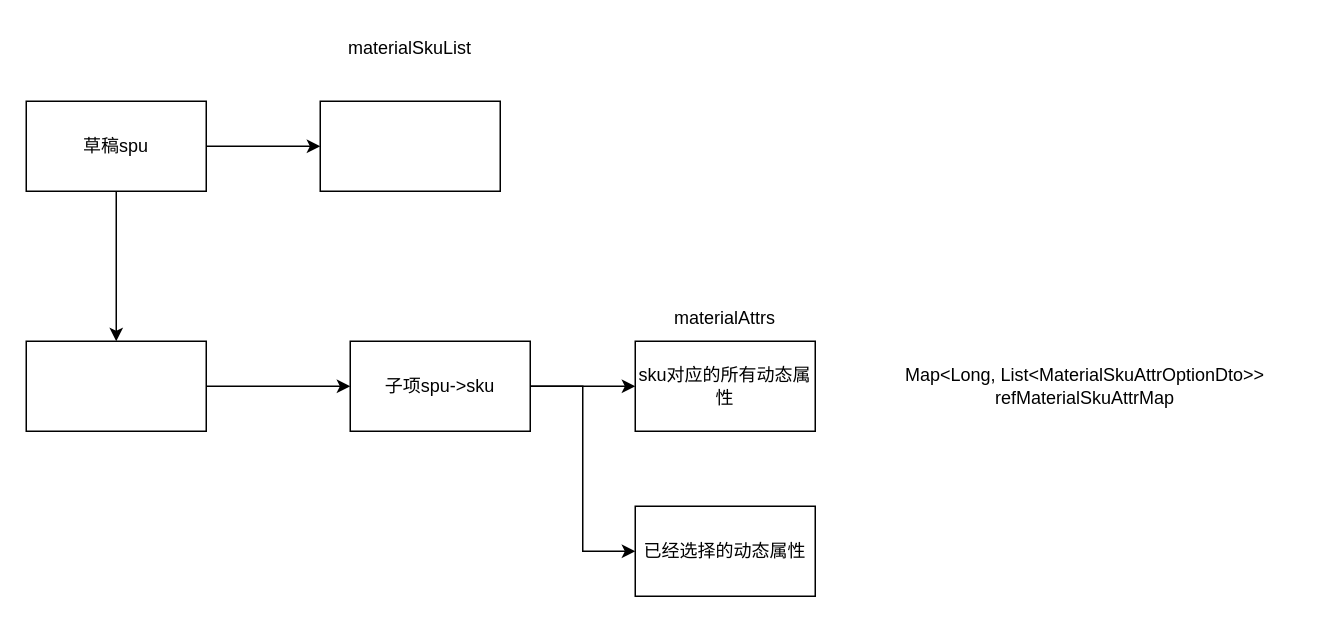
Some shapes in this 1337 by 623 pixel diagram are drawn without their labels. The shapes that lost their labels are listed below. From the top down, each one's centre as x and y in pixels, then its label:
At point (409, 145): "选择的动态属性".
At point (115, 385): "子项spu(商品spu)".
